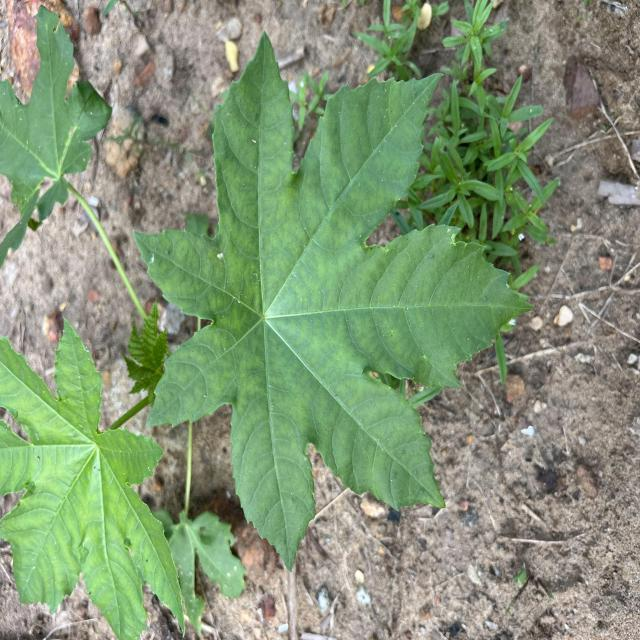Ricinus communis linn: (130, 22, 538, 578)
